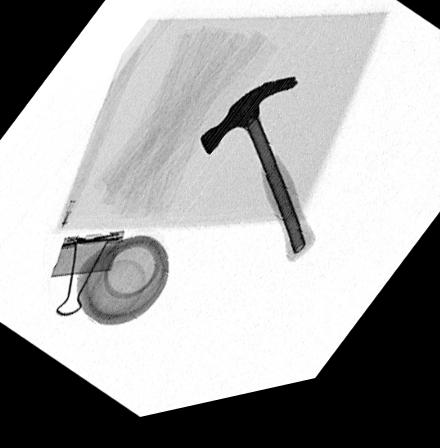Hammer: (200, 89, 316, 275)
